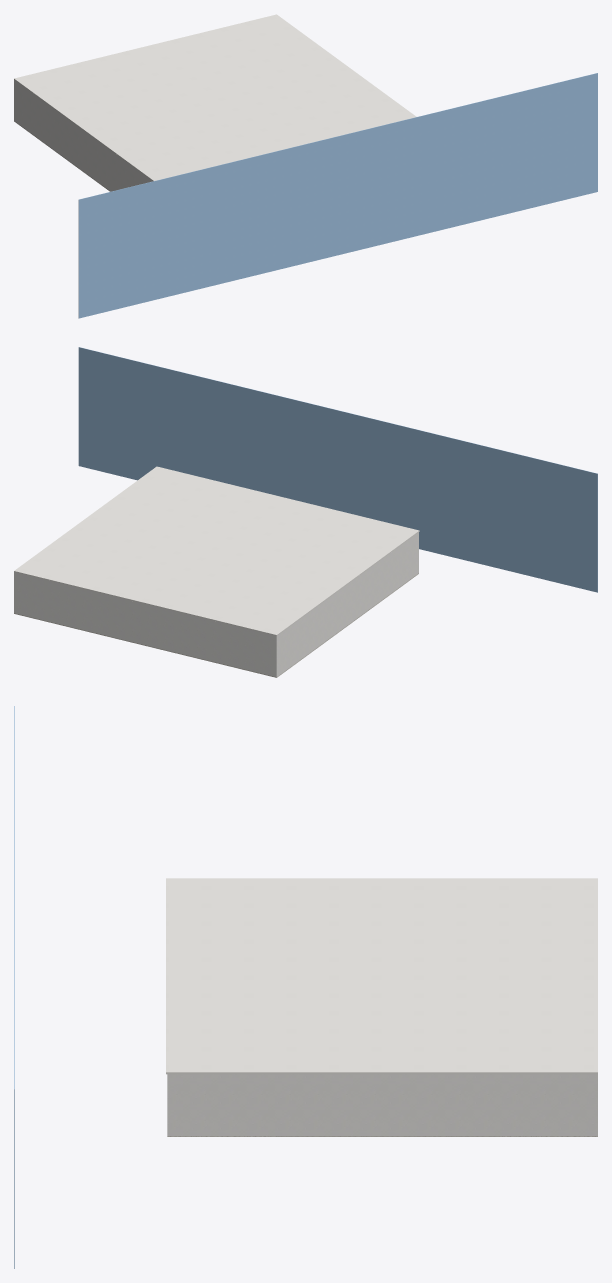
File: interior.glb
3 views of the same model, one above another, from view 1: azimuth 30°, elevation 25°; view 2: azimuth 150°, elevation 25°; view 3: azimuth 270°, elevation 25° (orthographic). The views are drawn at different scales.
Parts seen in each view (by area): view 1: Sky_Front, Ceiling, Store_IN_WallMain; view 2: Sky_Front, Ceiling, Store_IN_WallMain, House_Floor_Northline; view 3: Ceiling, Store_IN_WallMain.
Boxes of the visible parts, x1,y1,x2,y2 form: Sky_Front: (78, 73, 597, 318); Ceiling: (14, 14, 416, 181); Store_IN_WallMain: (14, 80, 152, 191); Sky_Front: (78, 347, 597, 592); Ceiling: (14, 466, 419, 636); Store_IN_WallMain: (14, 532, 418, 676); House_Floor_Northline: (14, 573, 418, 677); Ceiling: (166, 878, 597, 1074); Store_IN_WallMain: (167, 1074, 597, 1135).
Bounding box in the file's own units: 64 × 14 × 41.23.
Materials: 32 (28 with a texture image).
